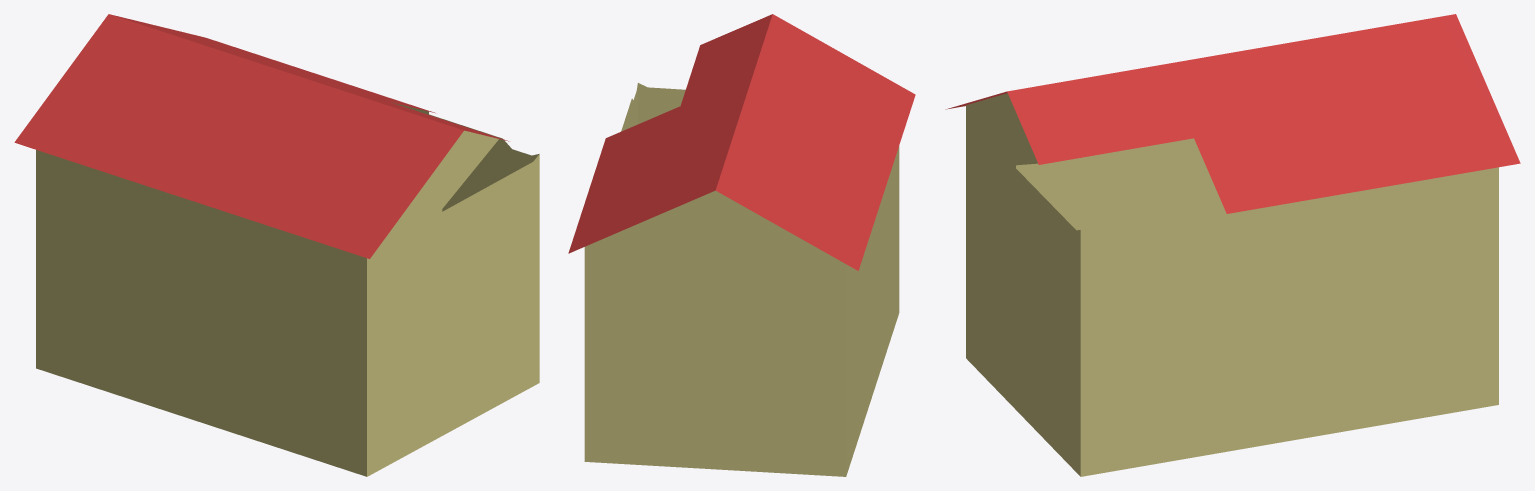
The picture shows the model from 3 angles, left to right: view 1: azimuth 30°, elevation 25°; view 2: azimuth 150°, elevation 25°; view 3: azimuth 270°, elevation 25°; orthographic projection. The views are drawn at different scales.
Bounding box in the file's own units: 14.26 × 17.36 × 10.89.
